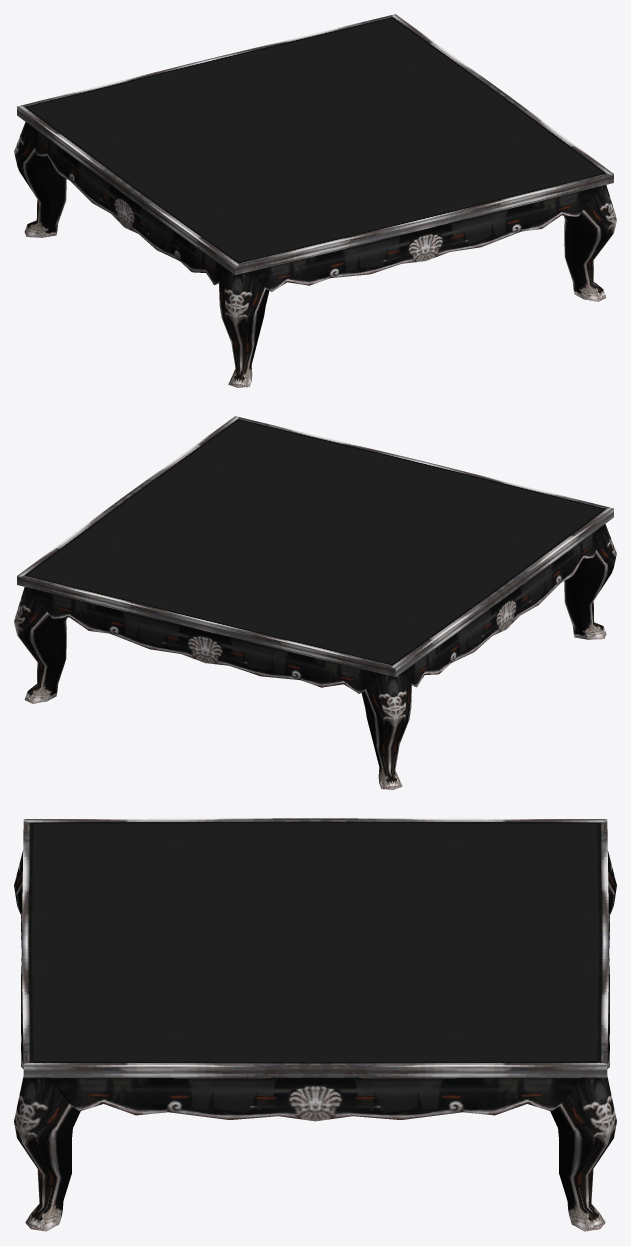
File: furni_0201214.FBX
The picture shows the model from 3 angles, top to bottom: view 1: azimuth 30°, elevation 25°; view 2: azimuth 150°, elevation 25°; view 3: azimuth 270°, elevation 25°; orthographic projection. The views are drawn at different scales.
Visible parts, largest first — view 1: furni_0201214; view 2: furni_0201214; view 3: furni_0201214.
Part boxes in pixels (x1,y1,x2,y2): furni_0201214: (14,14,616,387); furni_0201214: (14,416,616,789); furni_0201214: (14,818,616,1231).
Bounding box in the file's own units: 164 × 49.99 × 164.
1 material, 1 textured.
